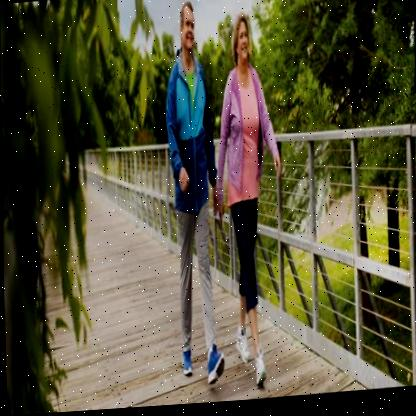person: (215, 4, 289, 393), (161, 0, 227, 397)
